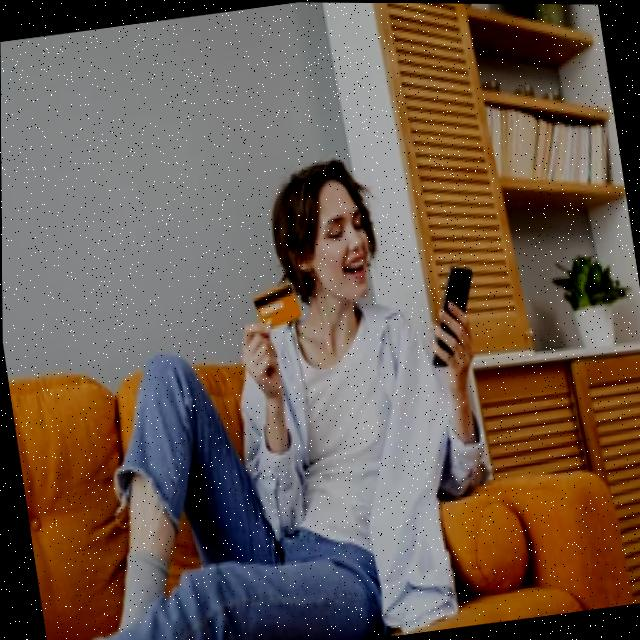smartphone-person: (110, 127, 529, 640)
